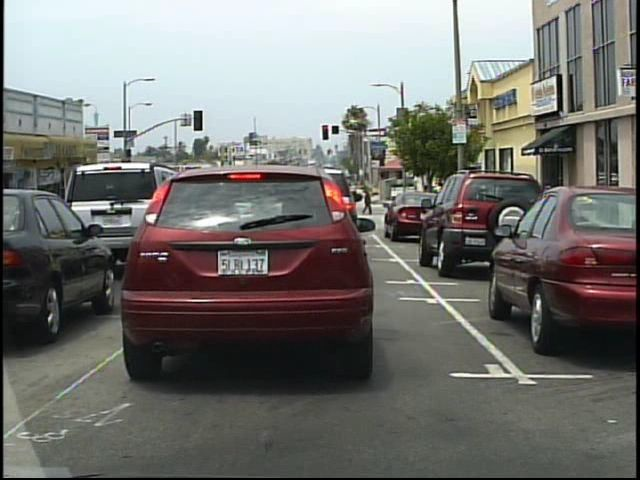person: (362, 185, 374, 218)
